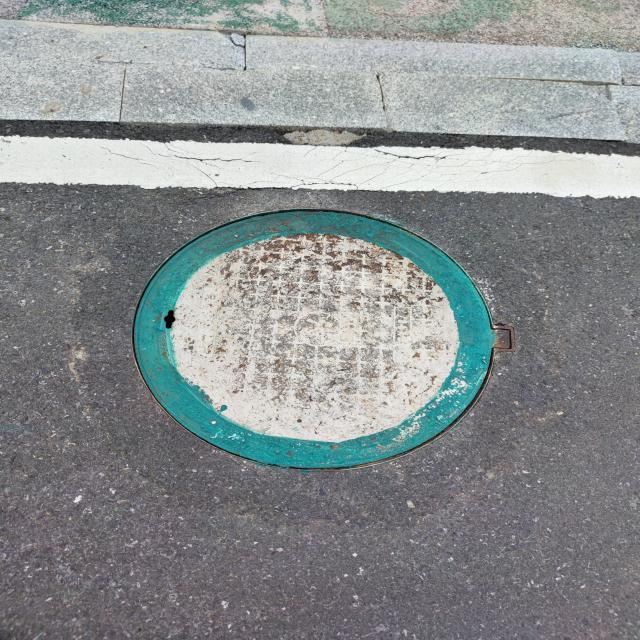Good: (126, 203, 516, 475)
